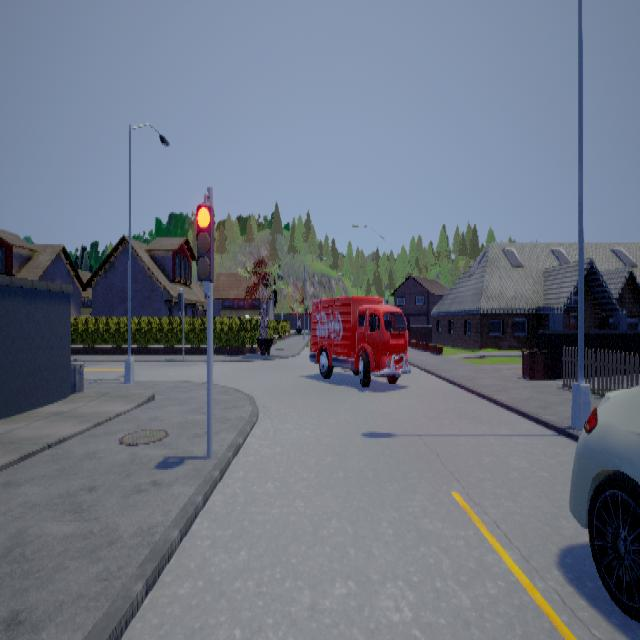red_light: (197, 190, 215, 296)
vehicle: (570, 384, 640, 621), (310, 293, 412, 386)
